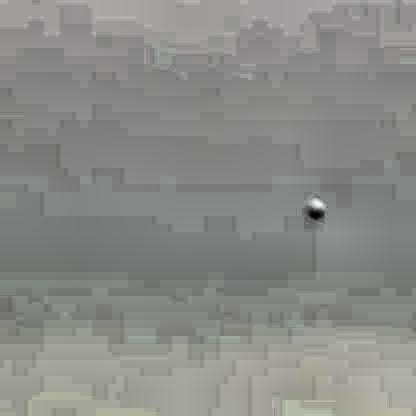golfball: (304, 197, 323, 216)
